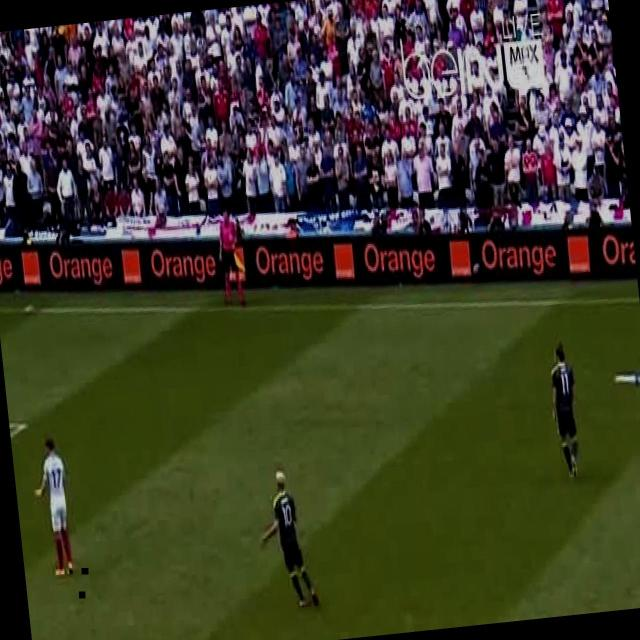player-white: (253, 467, 320, 615), (28, 434, 76, 580), (543, 342, 584, 480), (612, 353, 640, 488), (214, 208, 246, 308)
